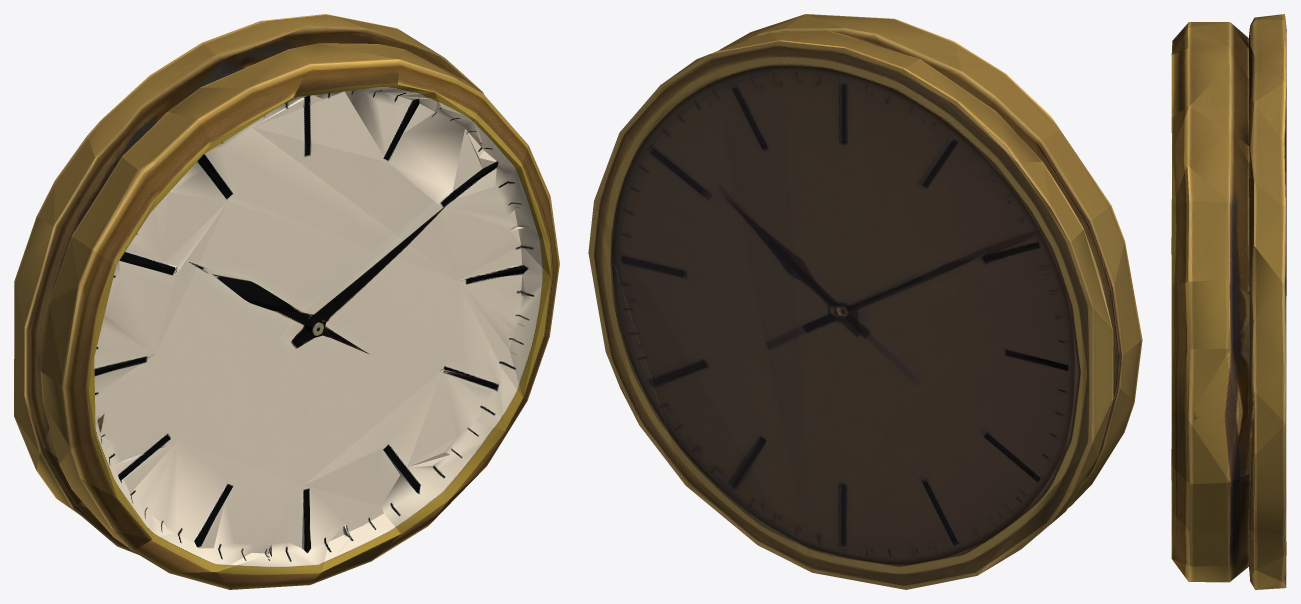
File: PR_WallClock.fbx
3 renders of one model, left to right at view 1: azimuth 30°, elevation 25°; view 2: azimuth 150°, elevation 25°; view 3: azimuth 270°, elevation 25°, orthographic. The views are drawn at different scales.
Visible parts, largest first — view 1: Mesh_0; view 2: Mesh_0; view 3: Mesh_0.
Boxes of the visible parts, x1,y1,x2,y2 form: Mesh_0: [14, 14, 559, 589]; Mesh_0: [588, 14, 1142, 589]; Mesh_0: [1171, 14, 1286, 589].
Bounding box in the file's own units: 189 × 189 × 37.89.
1 material, 1 textured.
